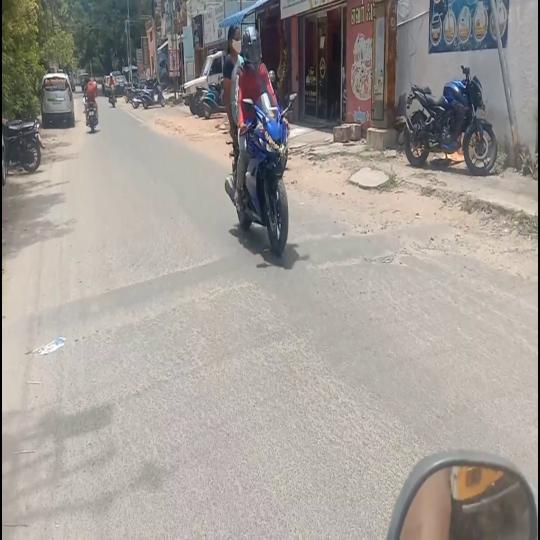Speed Bump: (5, 244, 269, 348), (289, 220, 445, 264)
